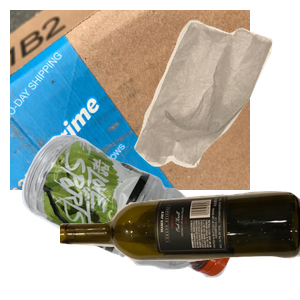cardboard: (10, 10, 250, 190)
glass: (60, 189, 300, 300)
plastic: (19, 132, 242, 300)
trash: (132, 17, 300, 177)
